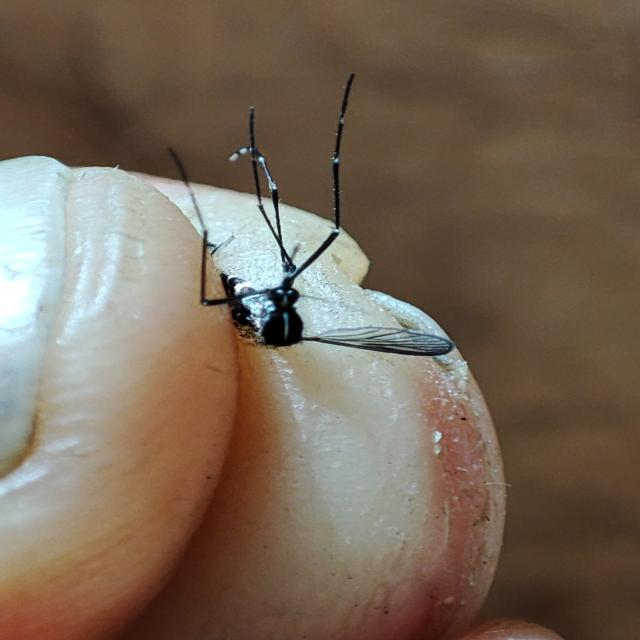albopictus: (133, 65, 473, 399)
